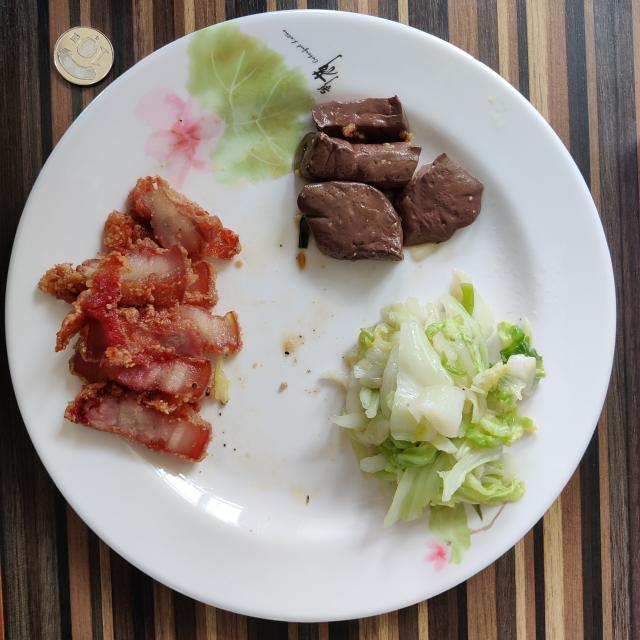cabbage: (325, 281, 545, 524)
coin: (54, 26, 114, 85)
pig blood curd: (292, 96, 484, 261)
red grilled pork: (39, 176, 242, 461)
